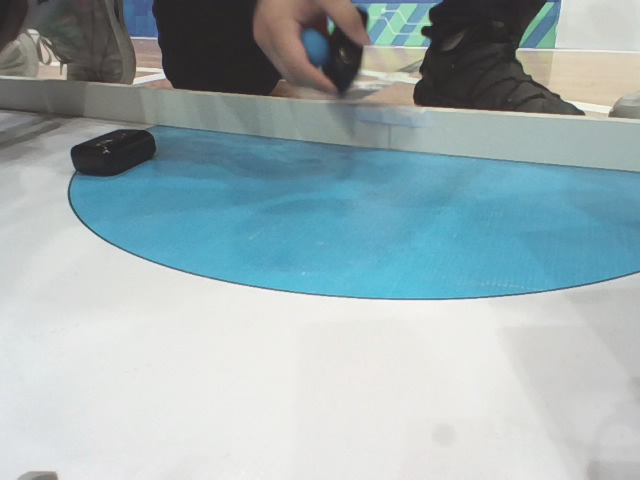black: (55, 125, 160, 179)
